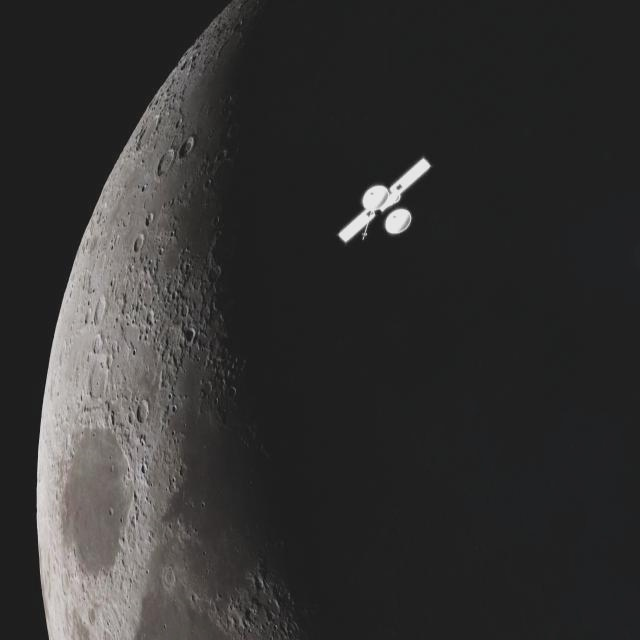satellite: (321, 150, 439, 254)
